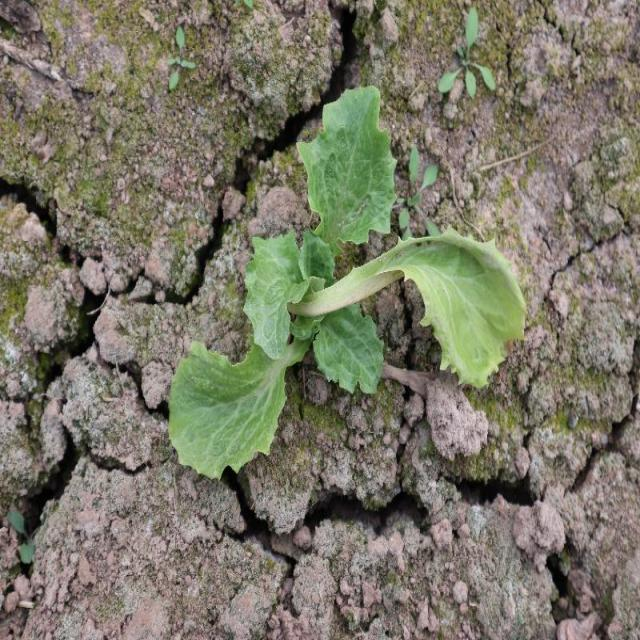crop: (166, 79, 525, 483)
